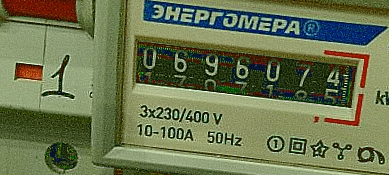0: (136, 42, 158, 70), (262, 55, 281, 83)
4: (323, 61, 342, 87)
5: (321, 85, 338, 105)
6: (169, 44, 191, 74), (230, 53, 250, 79)
7: (291, 60, 312, 88)
9: (199, 49, 220, 76)
screen: (114, 18, 374, 130)
